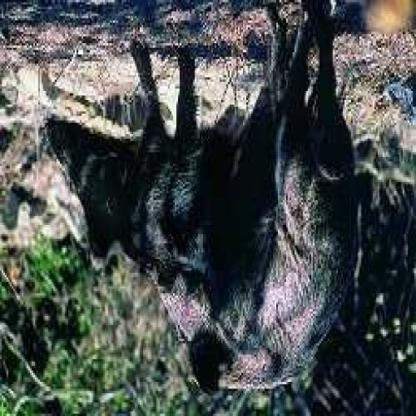boar: (160, 27, 384, 409), (43, 22, 284, 314)
